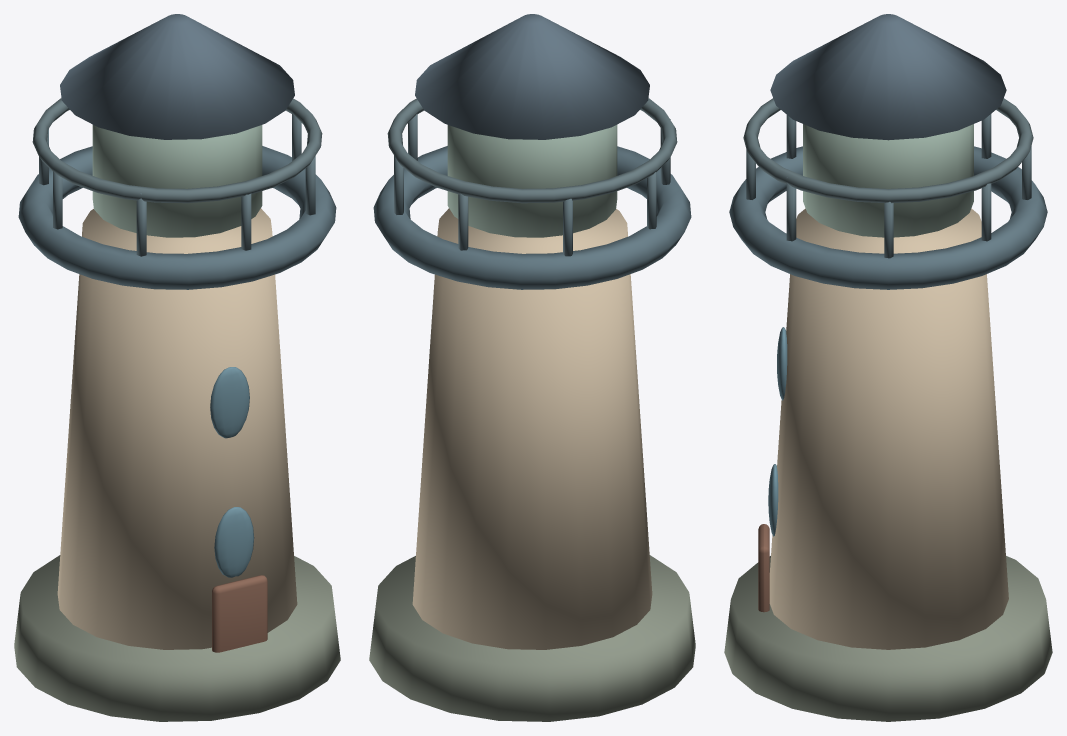
The model's file is lighthouse.glb.
3 views of the same model, side by side, from view 1: azimuth 30°, elevation 25°; view 2: azimuth 150°, elevation 25°; view 3: azimuth 270°, elevation 25° (orthographic).
Parts seen in each view (by area): view 1: food_lighthouse_painted_mesh; view 2: food_lighthouse_painted_mesh; view 3: food_lighthouse_painted_mesh.
Part boxes in pixels (x1,y1,x2,y2): food_lighthouse_painted_mesh: [14, 14, 340, 721]; food_lighthouse_painted_mesh: [369, 14, 695, 721]; food_lighthouse_painted_mesh: [724, 14, 1052, 721].
Bounding box in the file's own units: 1 × 2.13 × 1.
